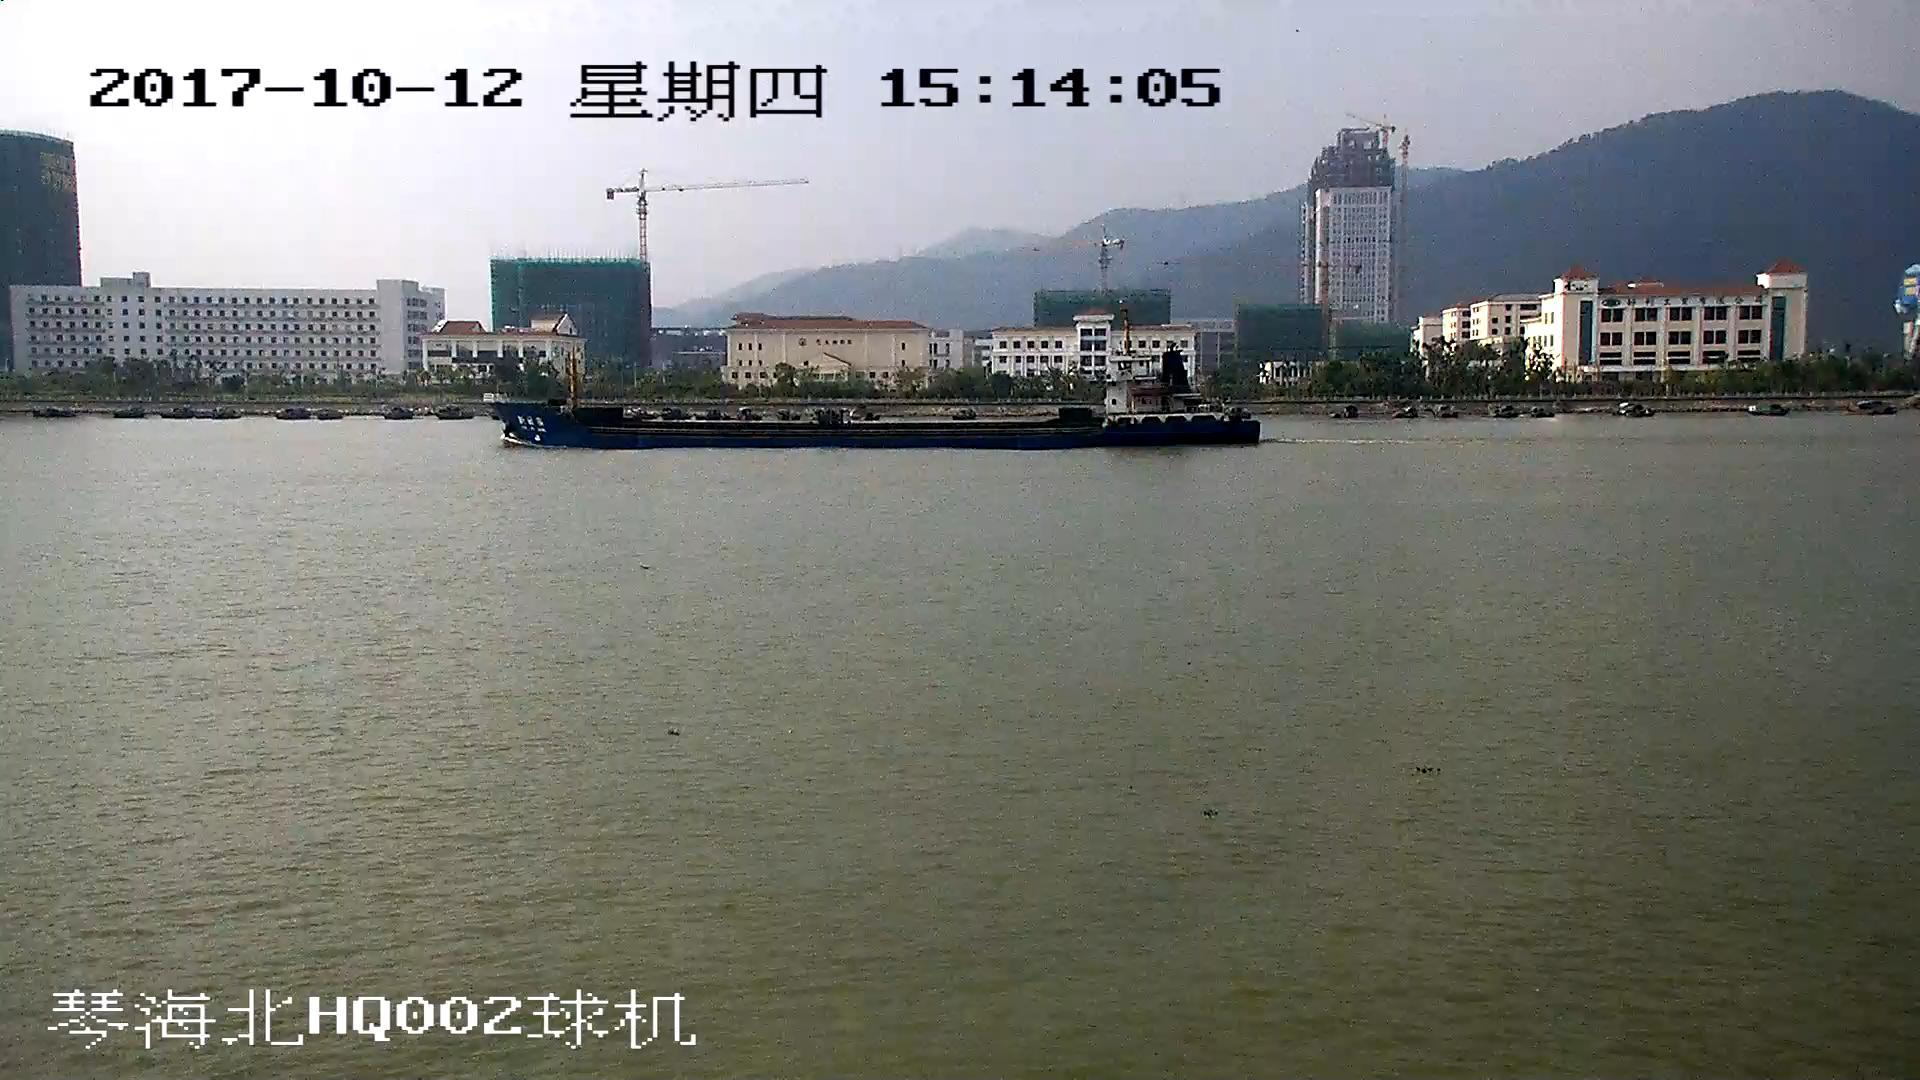Ship: (492, 322, 1265, 450)
